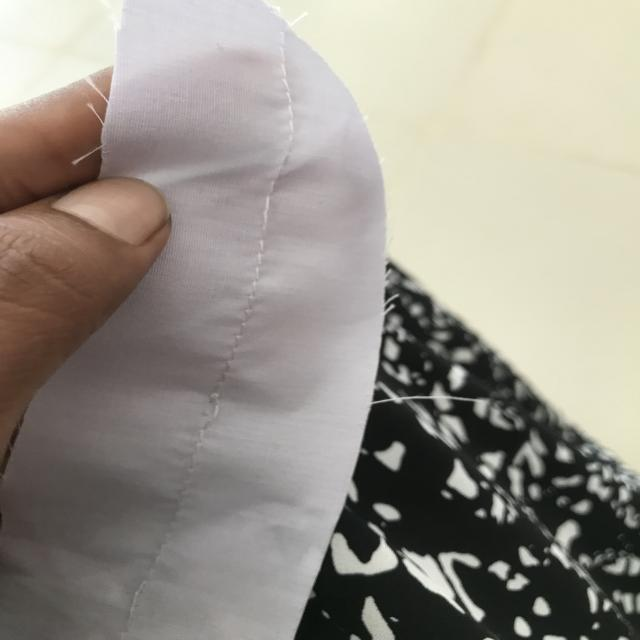skip: (179, 376, 236, 442)
